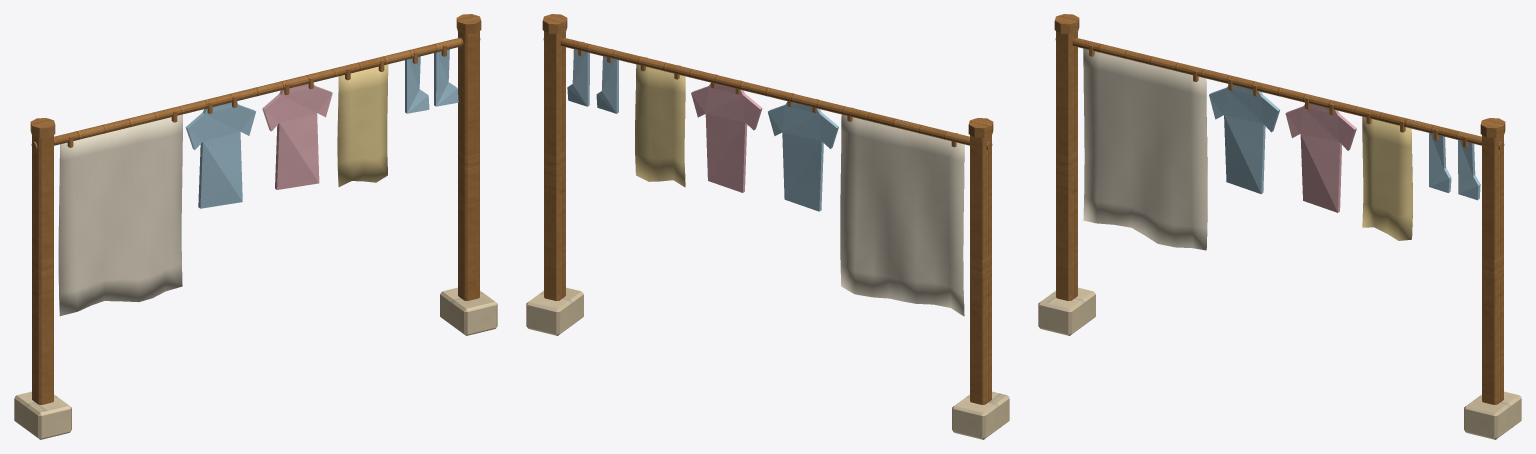
Rendered from Furn_ClothesLine.fbx.
3 views of the same model, side by side, from view 1: azimuth 30°, elevation 25°; view 2: azimuth 150°, elevation 25°; view 3: azimuth 330°, elevation 25° (orthographic).
Visible parts, largest first — view 1: Furn_ClothesLine_Mesh; view 2: Furn_ClothesLine_Mesh; view 3: Furn_ClothesLine_Mesh.
Boxes of the visible parts, box(x1,y1,x2,y2) form: Furn_ClothesLine_Mesh: box(14, 14, 497, 439); Furn_ClothesLine_Mesh: box(526, 14, 1009, 439); Furn_ClothesLine_Mesh: box(1038, 14, 1521, 439).
Bounding box in the file's own units: 3 × 1.9 × 0.3.
Materials: 4 (4 with a texture image).
